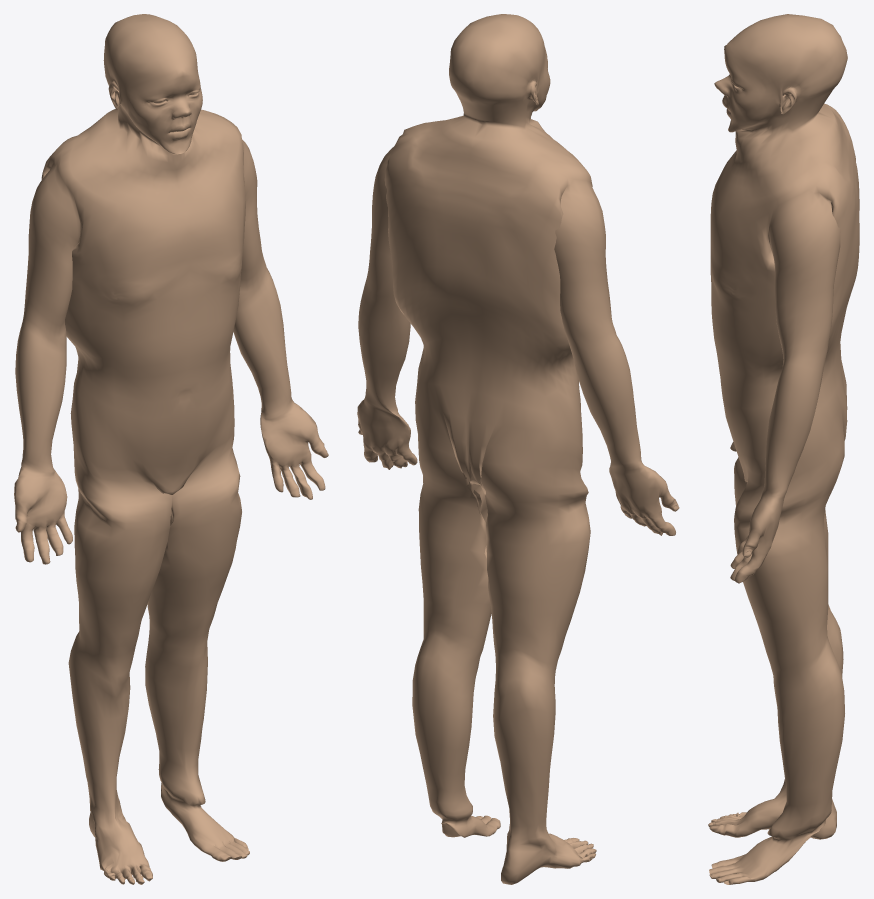
File: skin-candidate-f1c3.glb
The picture shows the model from 3 angles, left to right: view 1: azimuth 30°, elevation 25°; view 2: azimuth 150°, elevation 25°; view 3: azimuth 270°, elevation 25°; orthographic projection. The views are drawn at different scales.
Visible parts, largest first — view 1: MakeHuman_AT10_skin_fit_candidate_f1c3; view 2: MakeHuman_AT10_skin_fit_candidate_f1c3; view 3: MakeHuman_AT10_skin_fit_candidate_f1c3.
Boxes of the visible parts, x1,y1,x2,y2 form: MakeHuman_AT10_skin_fit_candidate_f1c3: [14, 14, 328, 884]; MakeHuman_AT10_skin_fit_candidate_f1c3: [357, 14, 679, 884]; MakeHuman_AT10_skin_fit_candidate_f1c3: [708, 14, 859, 884].
Size of the model in its own units: 0.6758 by 1.71 by 0.2815.
